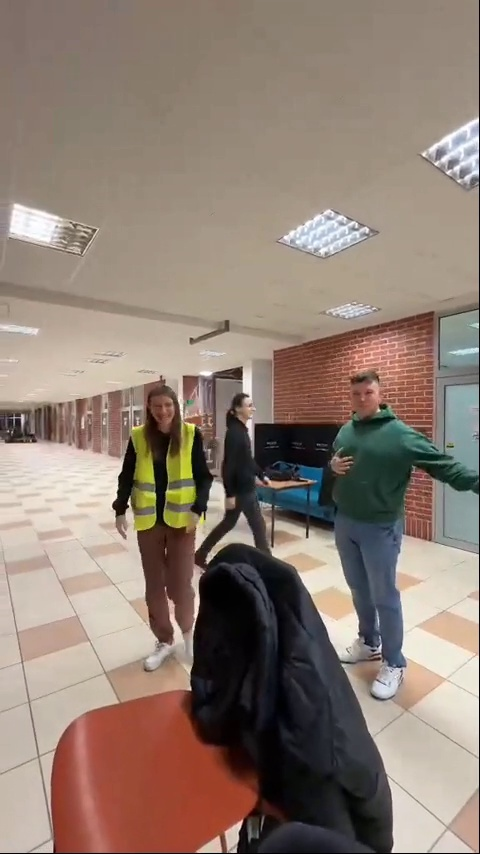no vest: (326, 370, 465, 683), (220, 392, 292, 576)
vest: (111, 390, 210, 676)
